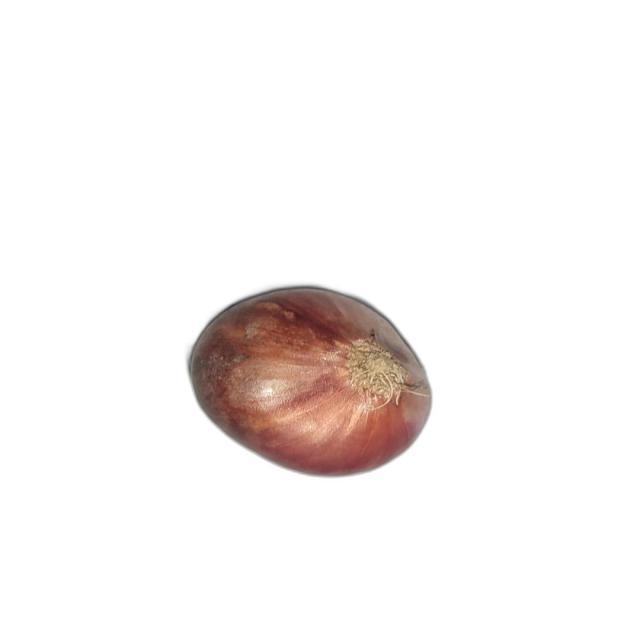onion: (188, 286, 432, 478)
